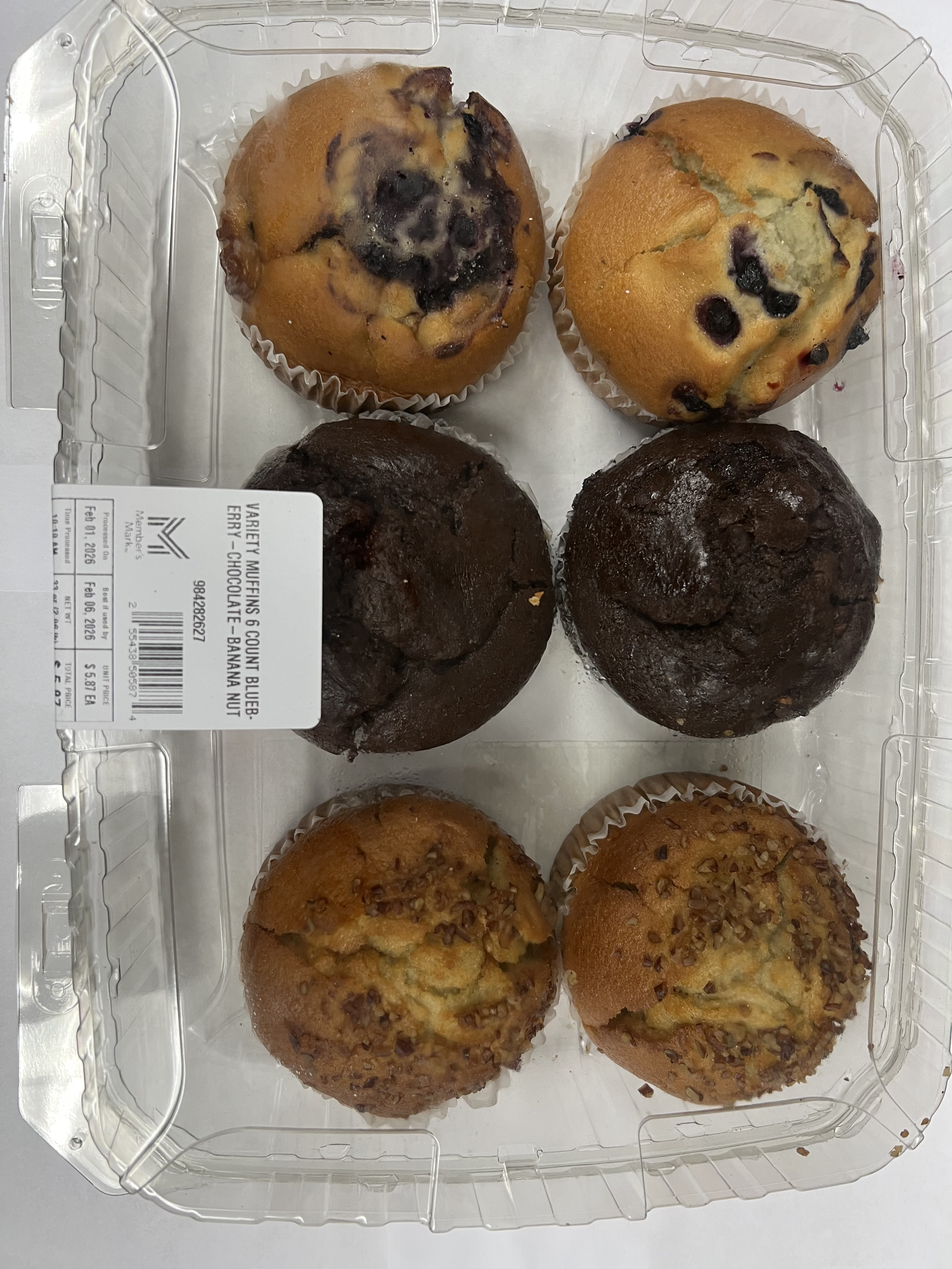bakery: (53, 34, 950, 1210)
